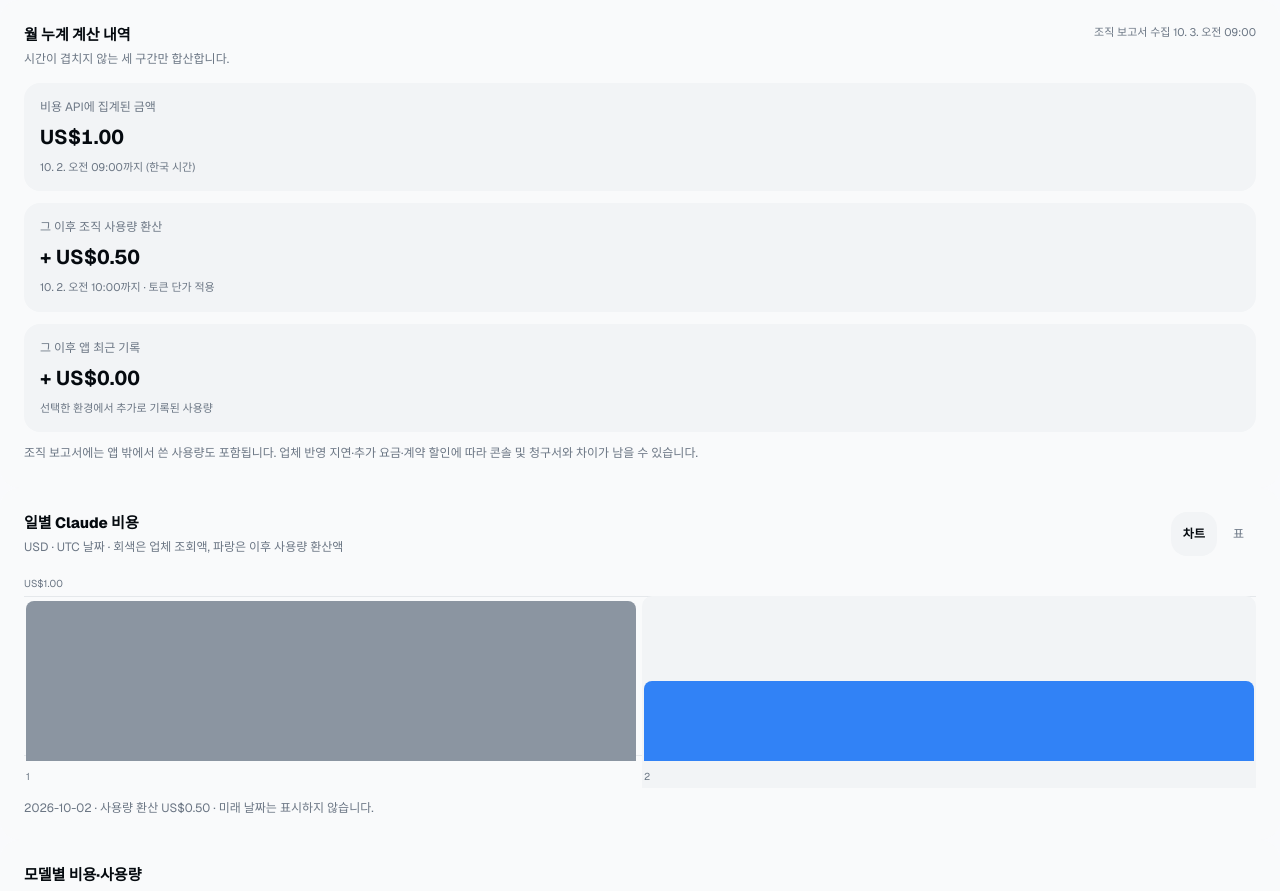
Test: console-style history and coverage › shows source coverage, keyboard day selection and a daily table without inventing future days
This screenshot has width=1280, height=891.
Expected: the text "비용 API에 집계된 금액" is shown, [40,98,156,114]
Expected: the text "그 이후 조직 사용량 환산" is shown, [40,219,162,235]
Focus the button named "2026-10-01 업체 조회액 US$1.00" at [331, 692], box [24,596,638,788]
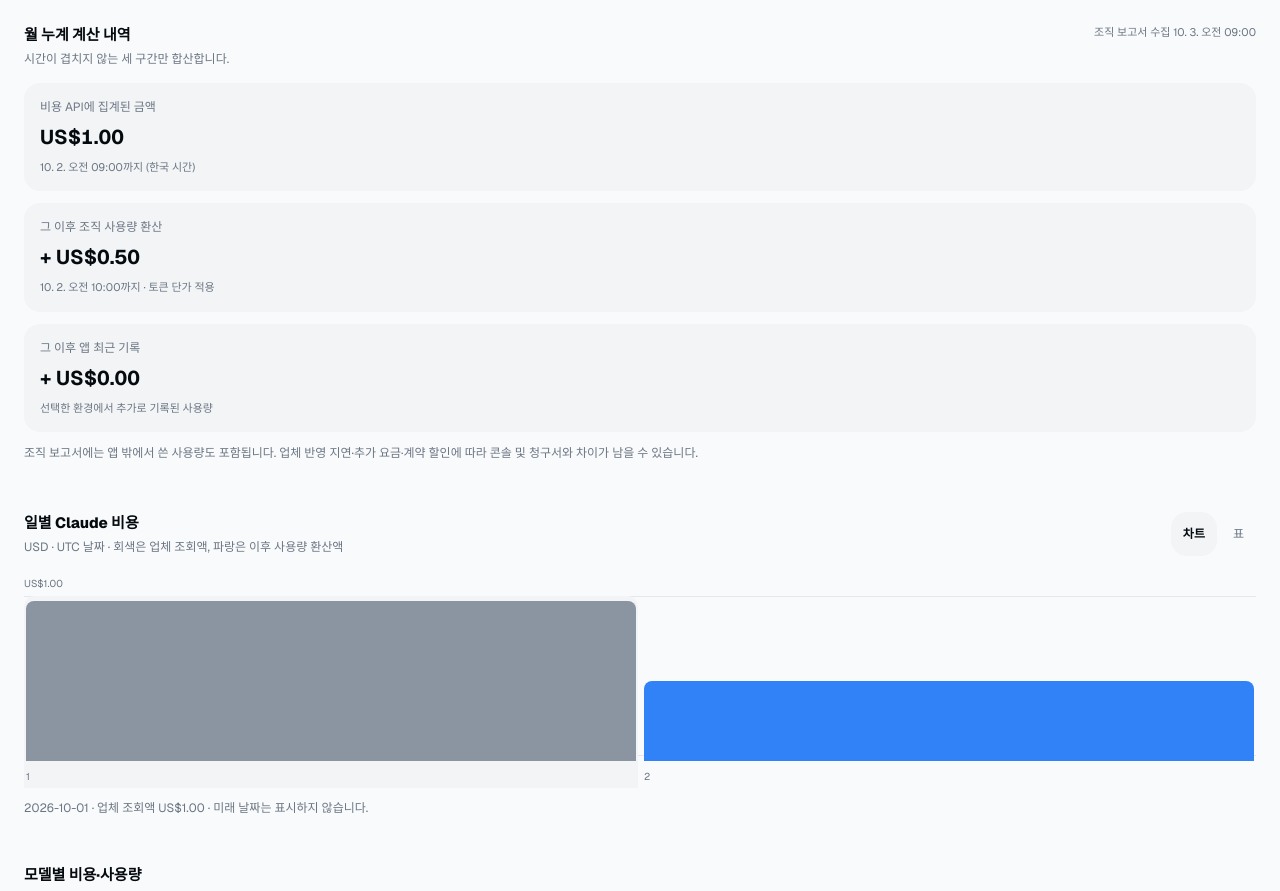
Now the text "2026-10-01 · 업체 조회액 US$1.00 · 미래 날짜는 표시하지 않습니다." is shown, box [24,800,368,816]
Click the button "표" at [1238, 534], box [1221,512,1256,556]
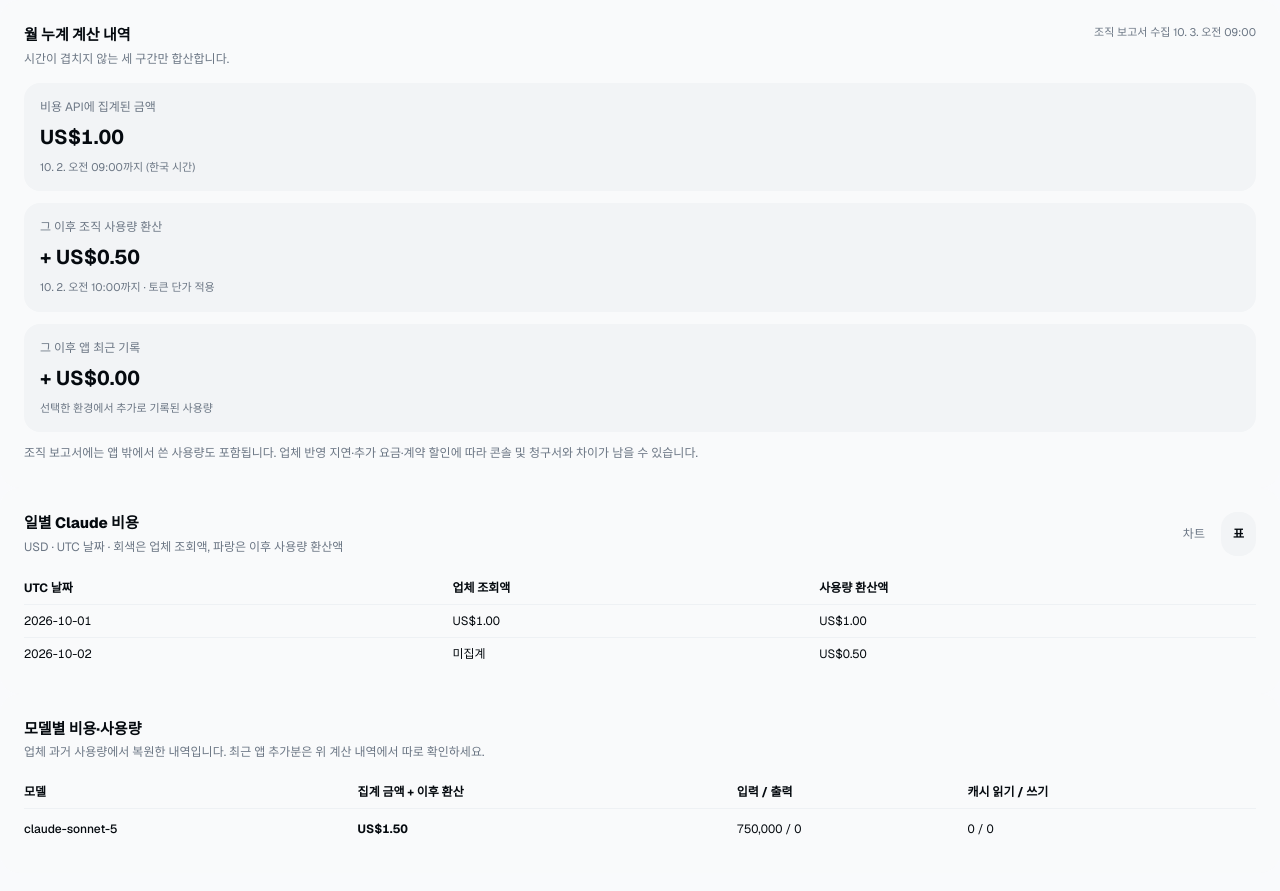
Expected: the text "claude-sonnet-5" is shown, [24,808,358,849]
Now the text "미집계" is shown, box [452,637,819,670]
